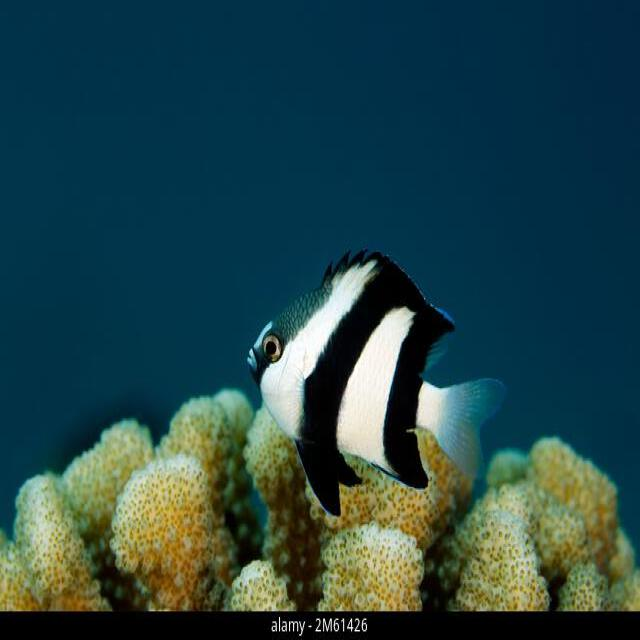ThreeStripedDamselfish: (247, 249, 499, 517)
